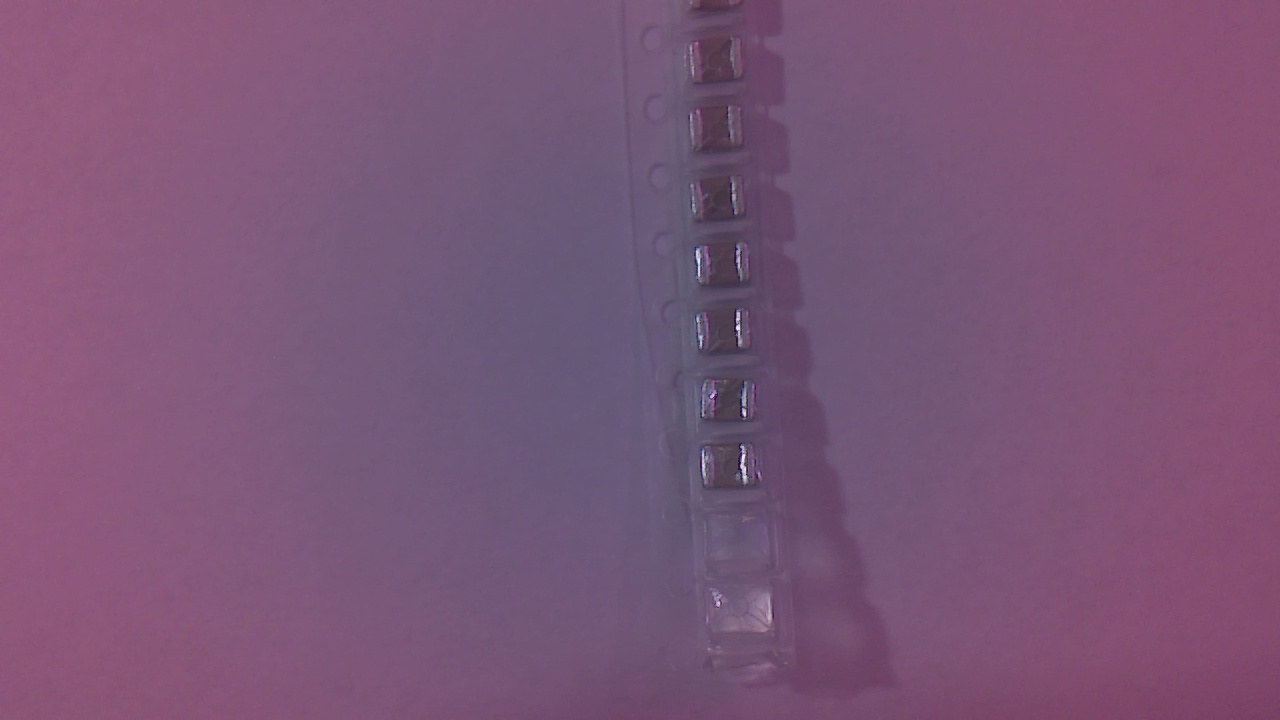Condensator: (690, 43, 754, 90), (698, 314, 760, 362), (702, 447, 764, 494), (691, 110, 748, 156), (707, 382, 763, 427), (700, 248, 758, 291), (696, 179, 755, 219)
